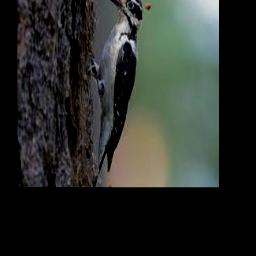Woodpecker: (88, 0, 151, 181)
